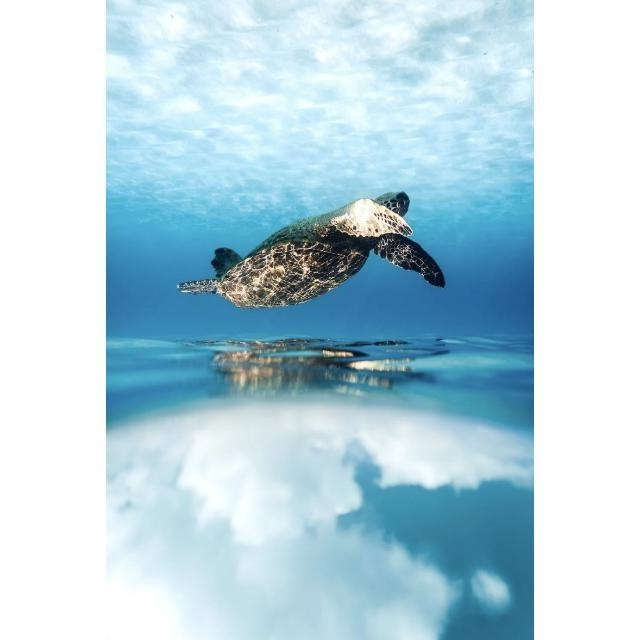turtle: (176, 189, 448, 312)
